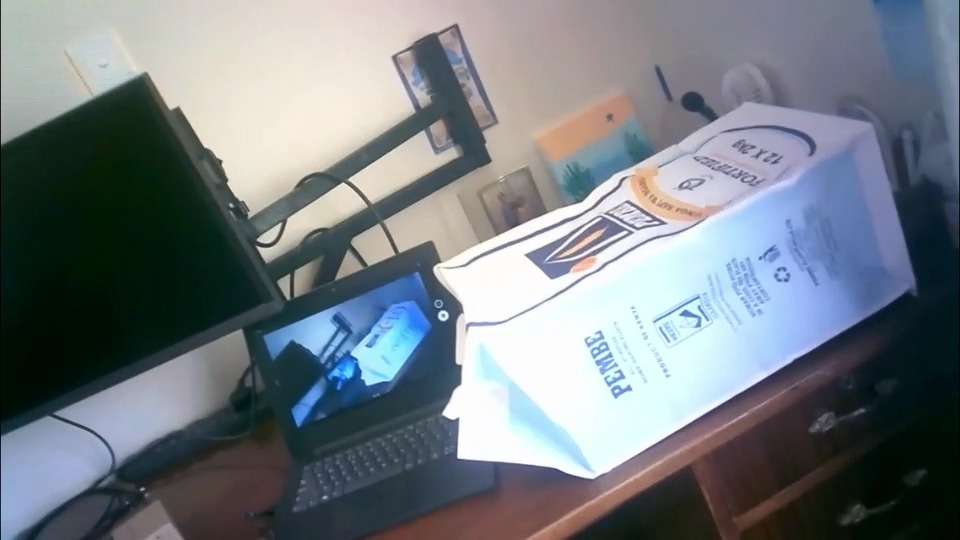wheat_flour_blue_label: (434, 104, 906, 471)
